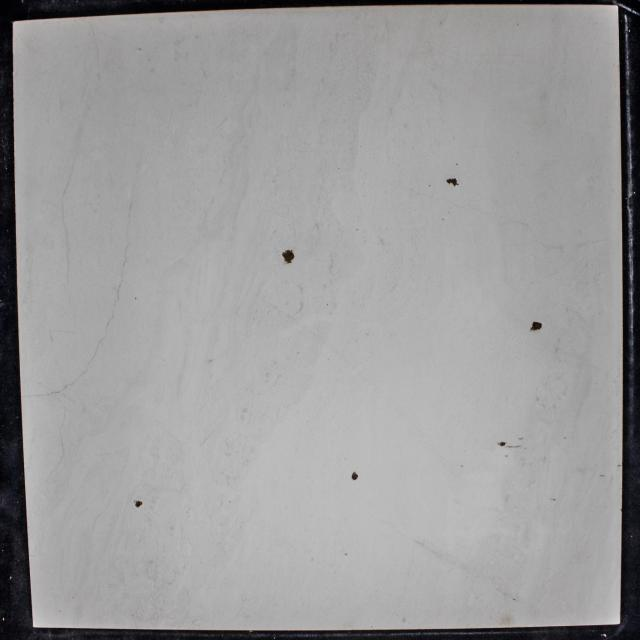hole: (281, 248, 295, 264), (446, 176, 460, 188), (530, 320, 542, 332), (350, 471, 359, 481), (134, 501, 142, 508), (499, 441, 507, 447)
line: (22, 383, 74, 397), (126, 186, 134, 260), (114, 260, 127, 304), (88, 338, 104, 366), (105, 315, 114, 336), (74, 370, 87, 382)
